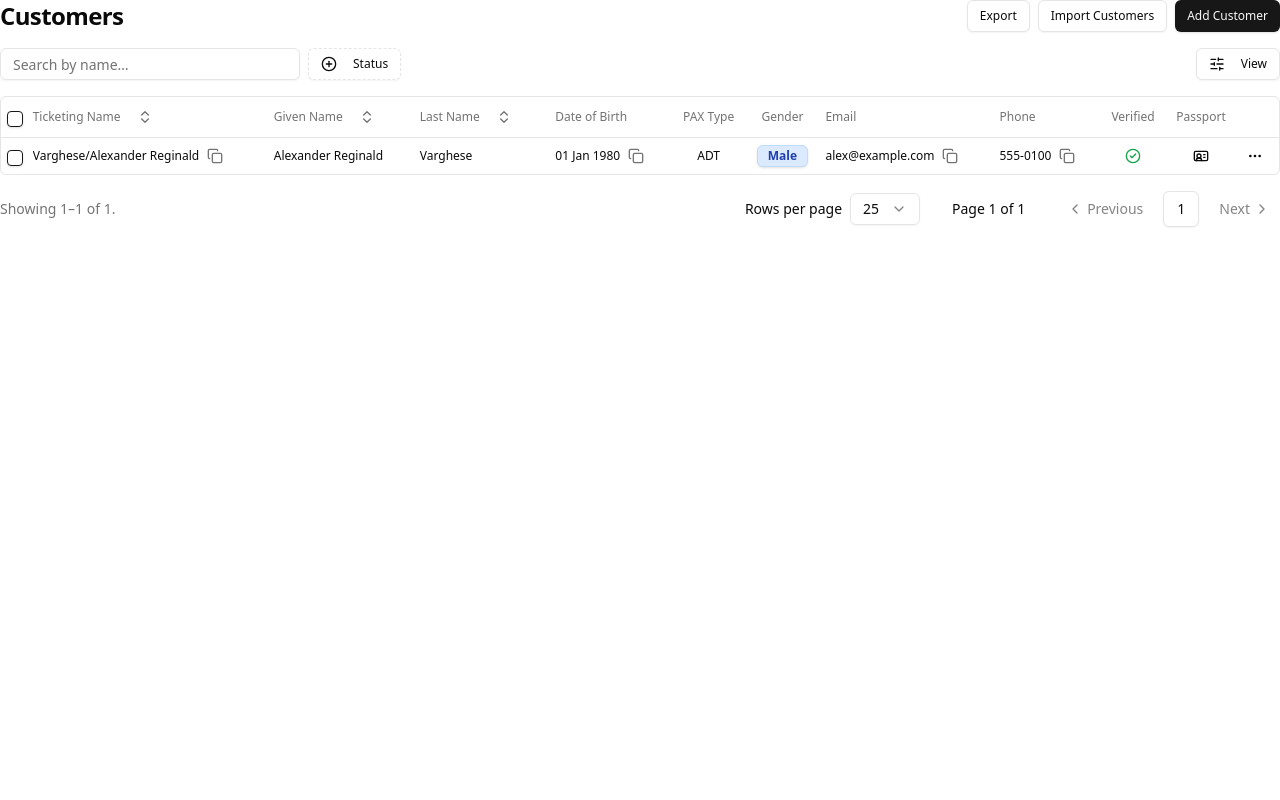
CustomersPage › enables passport view/download in the Edit dialog when the customer already has a photo on file
This screenshot has width=1280, height=800.
Step 1. Click the button named "Row actions for Alexander Varghese" → [1255, 156], box [1243,144,1267,168]
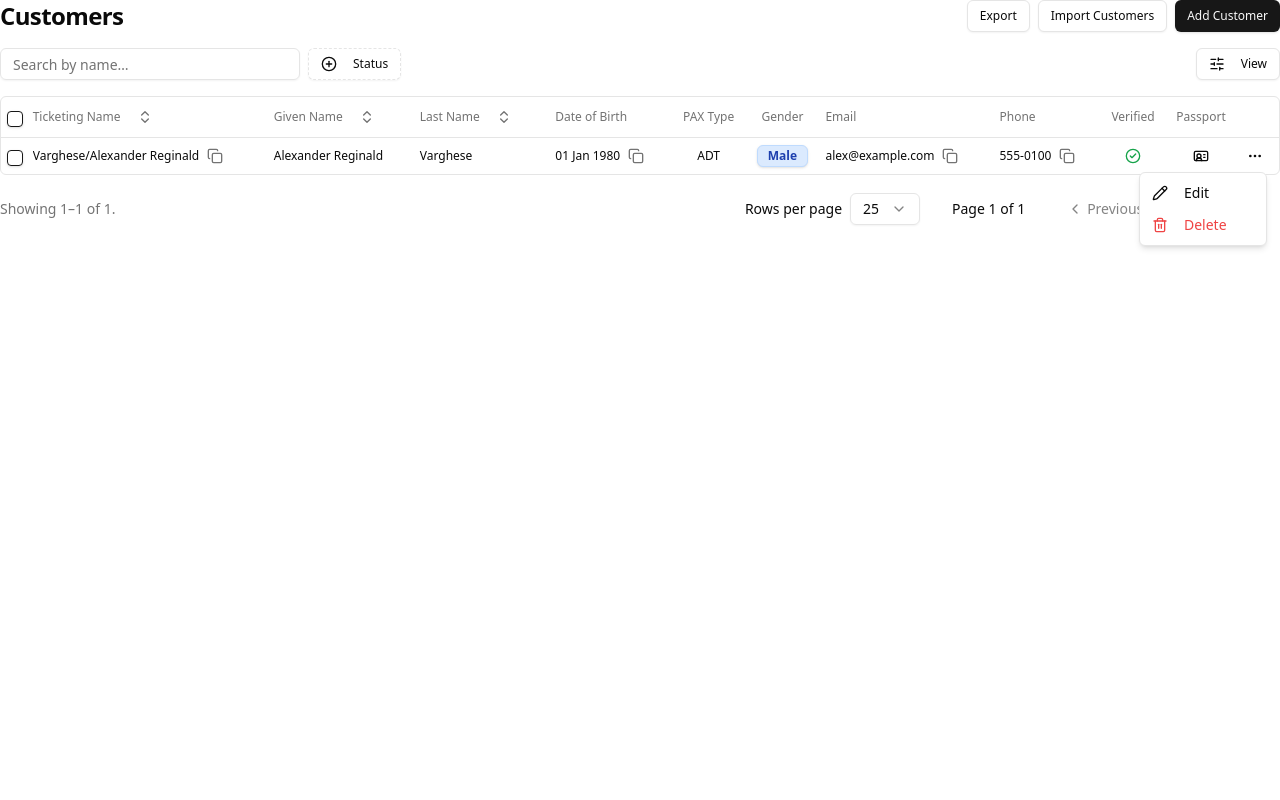
Step 2. Click the menu item "Edit" → [1160, 193], box [1152,183,1209,202]
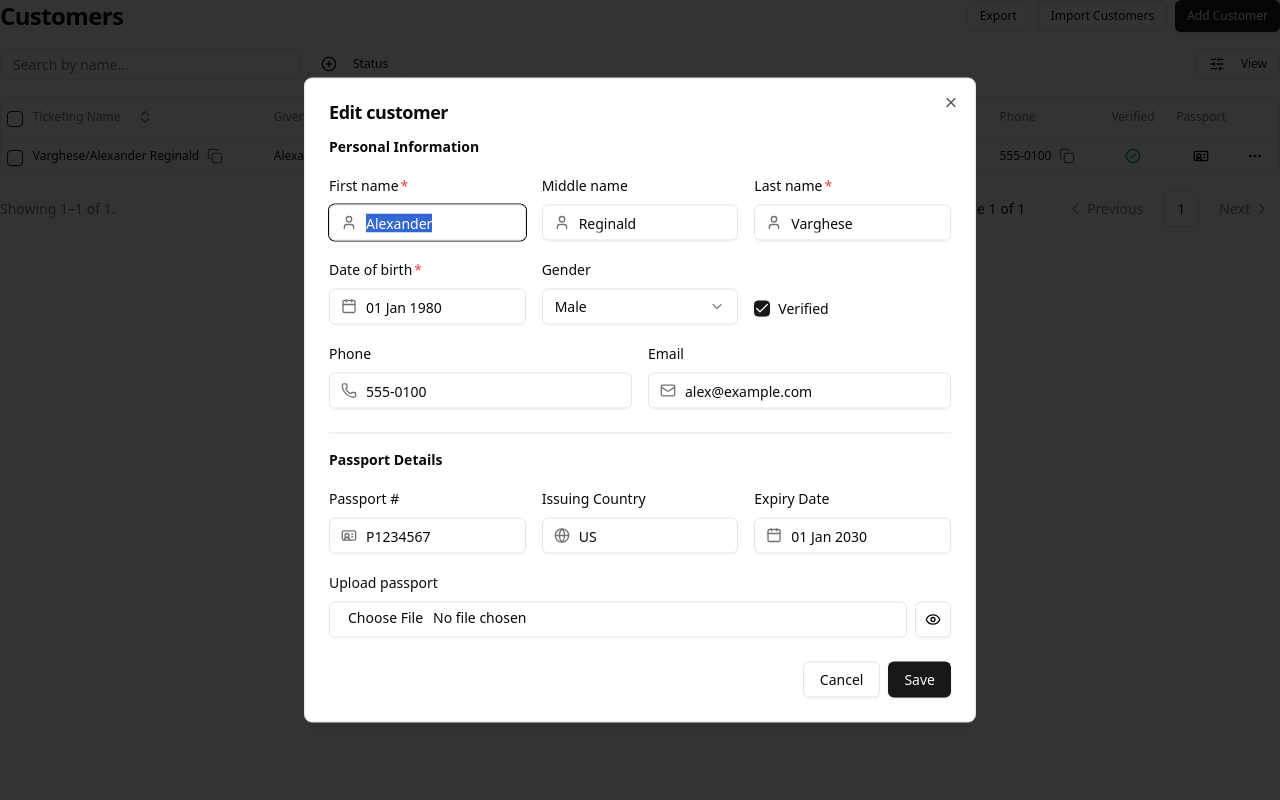
Now the field labelled "Passport #" holds "P1234567", box [329,518,526,554]
Now the button named "View passport document" is enabled, box [915,602,951,638]
